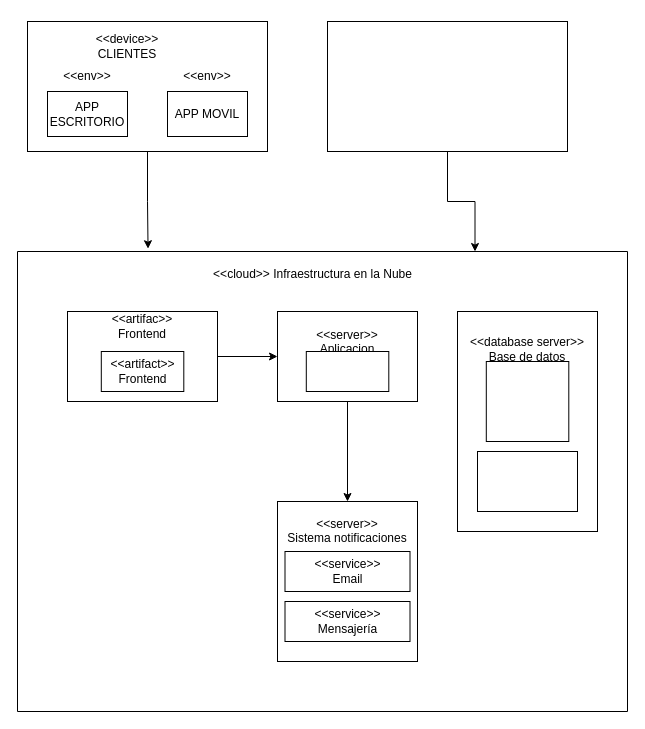
Some shapes in this 645 by 729 pixel diagram are drawn without their labels. Each missing label, with the centre of its shape:
<<artifact>> Backend: [347,371]
<<component>> Sistema Backups: [527,481]
<<device>> Terminal de fichajes (RRHH): [447,86]
<<table>> Fichajes Empleados Horarios: [527,401]
